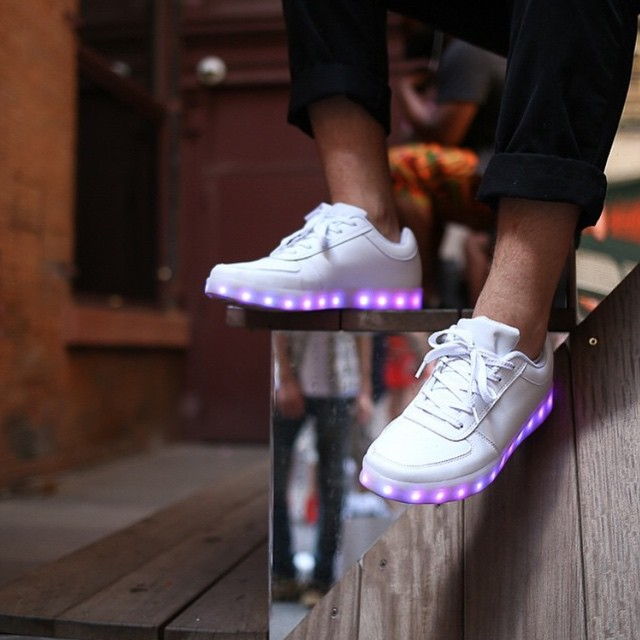sneaker: (338, 300, 574, 518), (195, 183, 435, 339)
